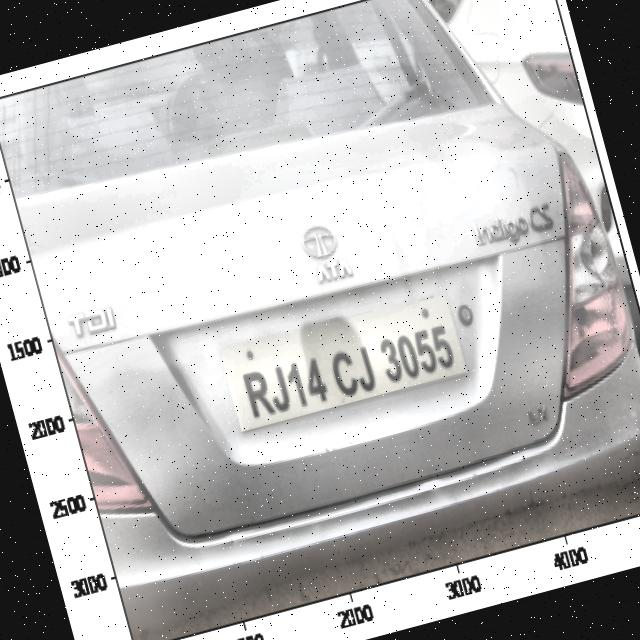license_plate: (232, 306, 466, 433)
